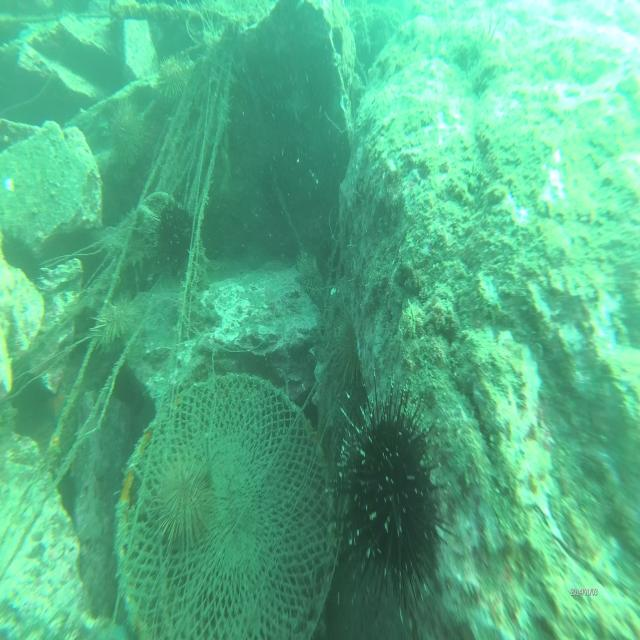echinus: (341, 395, 446, 601), (160, 459, 212, 543), (108, 98, 148, 169), (154, 200, 196, 267), (93, 295, 141, 350), (157, 51, 190, 103)
starfish: (44, 380, 70, 430)
